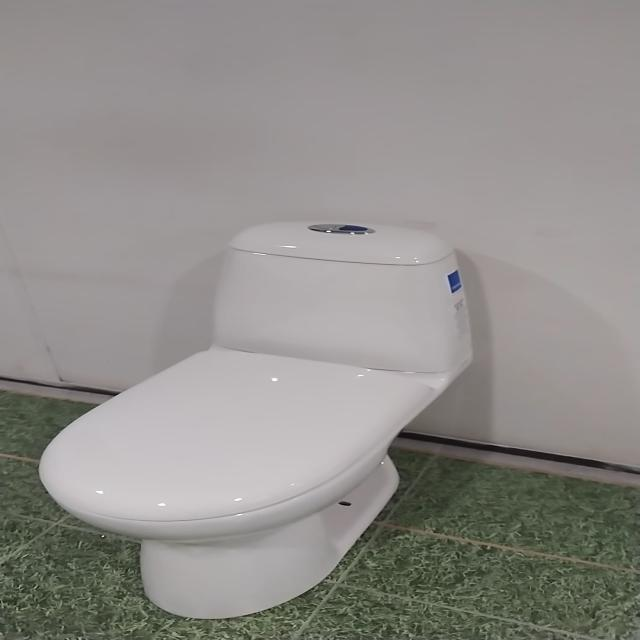toilet: (33, 218, 486, 624)
